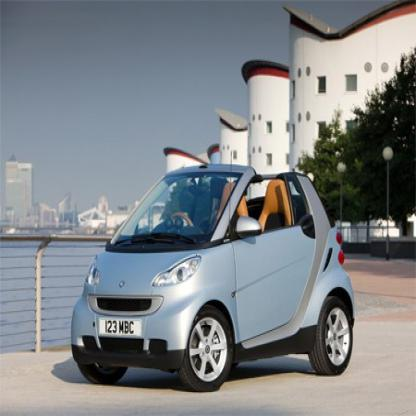Vehicle: (70, 166, 357, 394)
